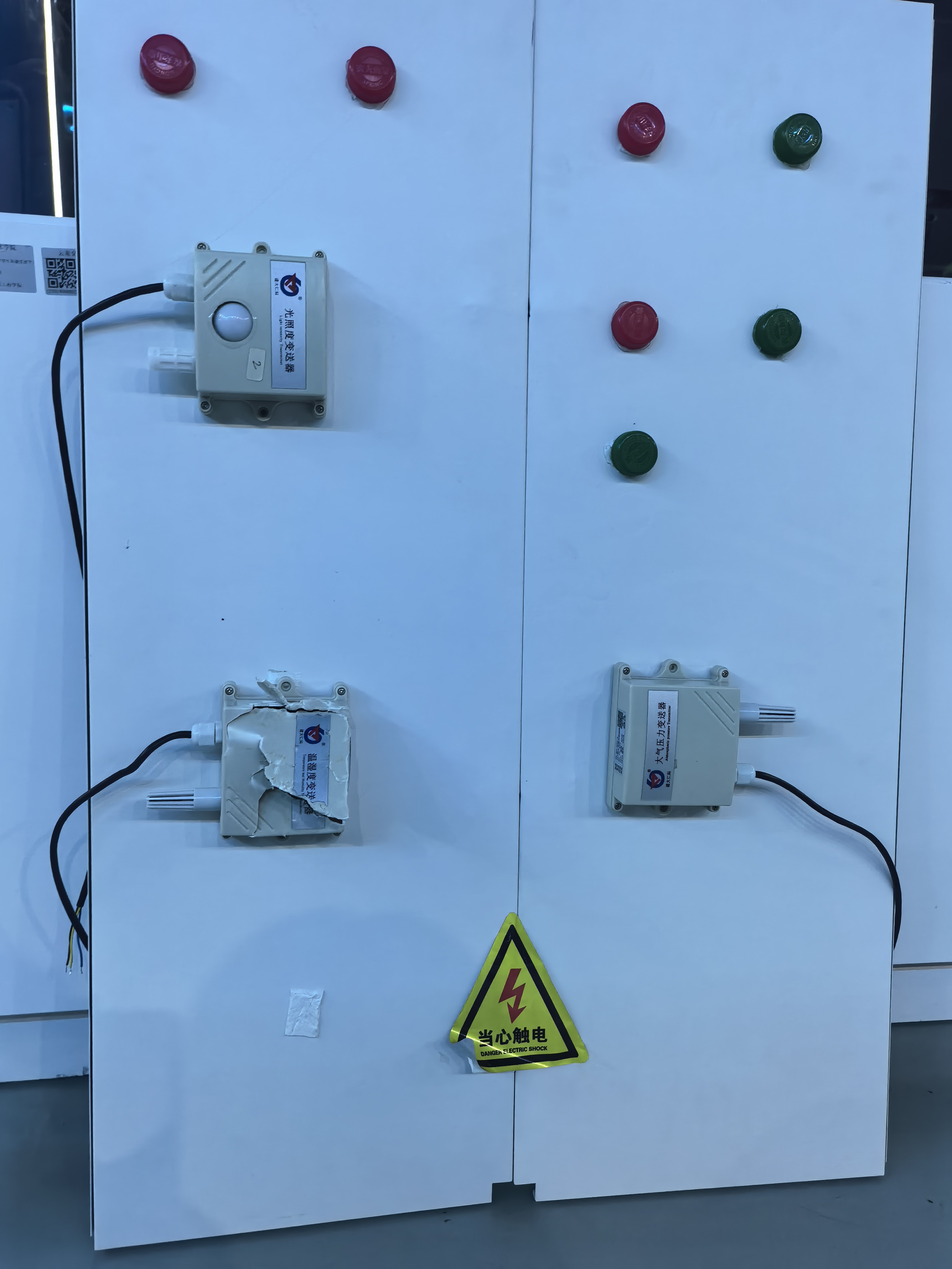red_warning: (118, 18, 230, 118), (588, 75, 691, 175), (331, 29, 428, 125), (588, 268, 672, 367)
sensor_damage: (130, 655, 388, 858)
